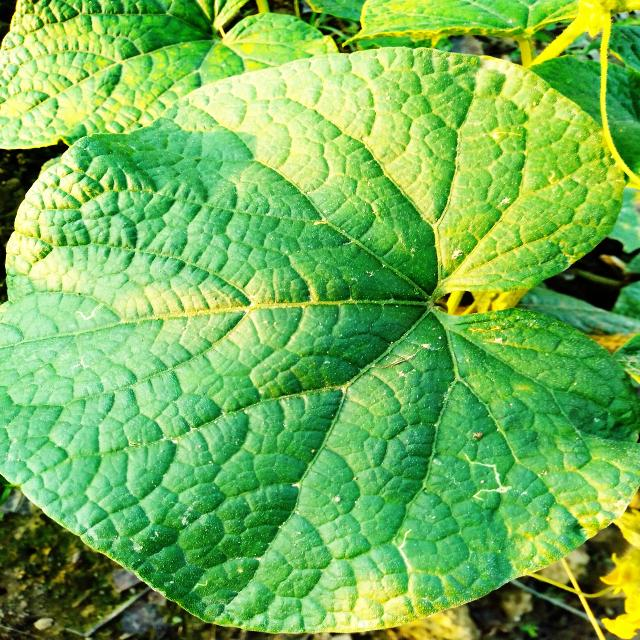Fresh-Leaf: (0, 46, 640, 635)
